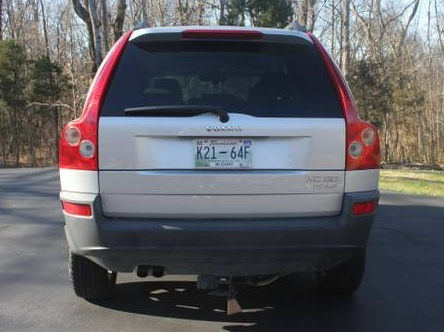volvo: (29, 16, 410, 316)
